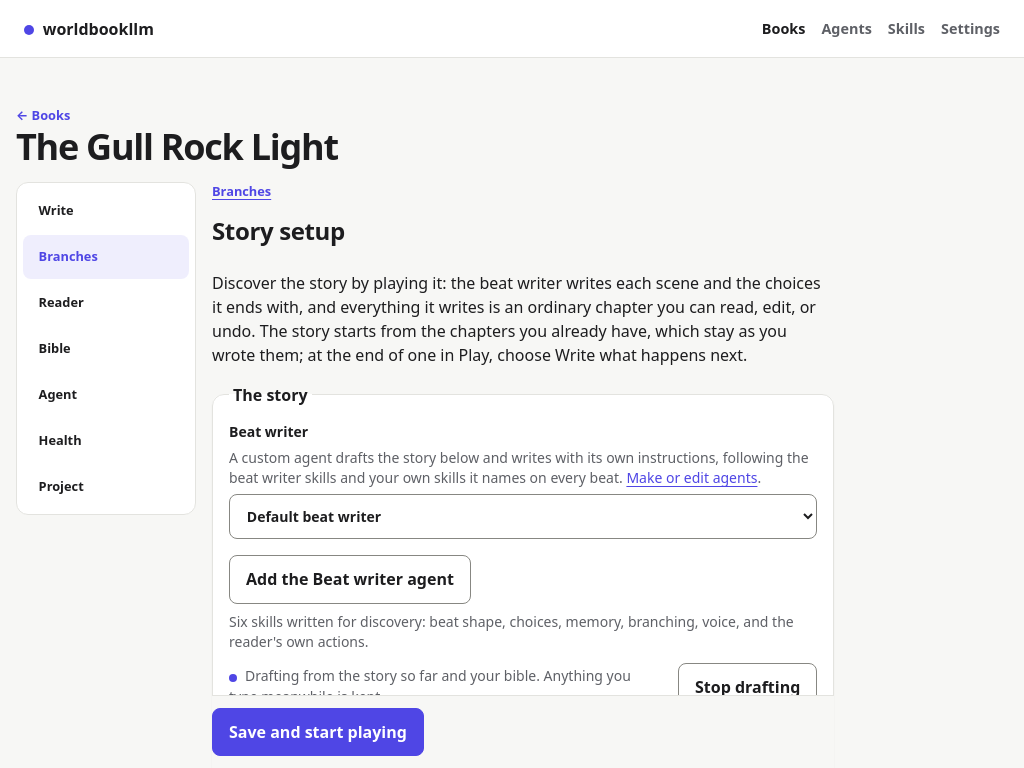
Test: Story setup › stops a draft that is running
Click the button "Stop drafting".
click(748, 687)  # box [678,663,817,711]
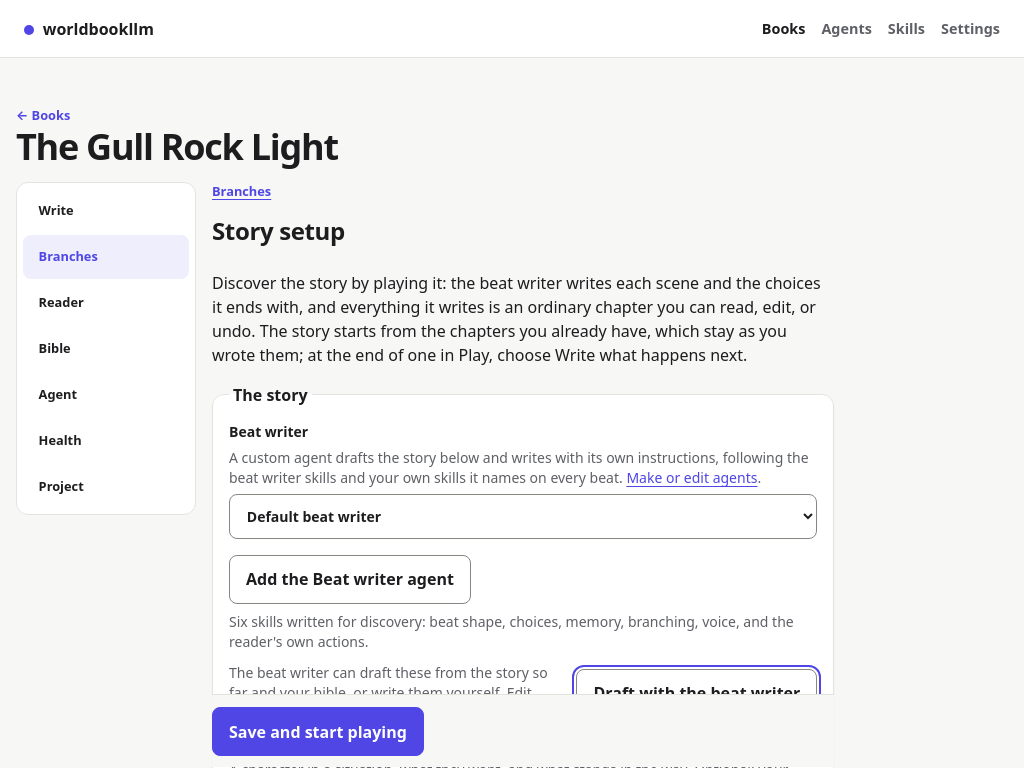
Expected: the button "Draft with the beat writer" is shown, [576,669,817,717]
